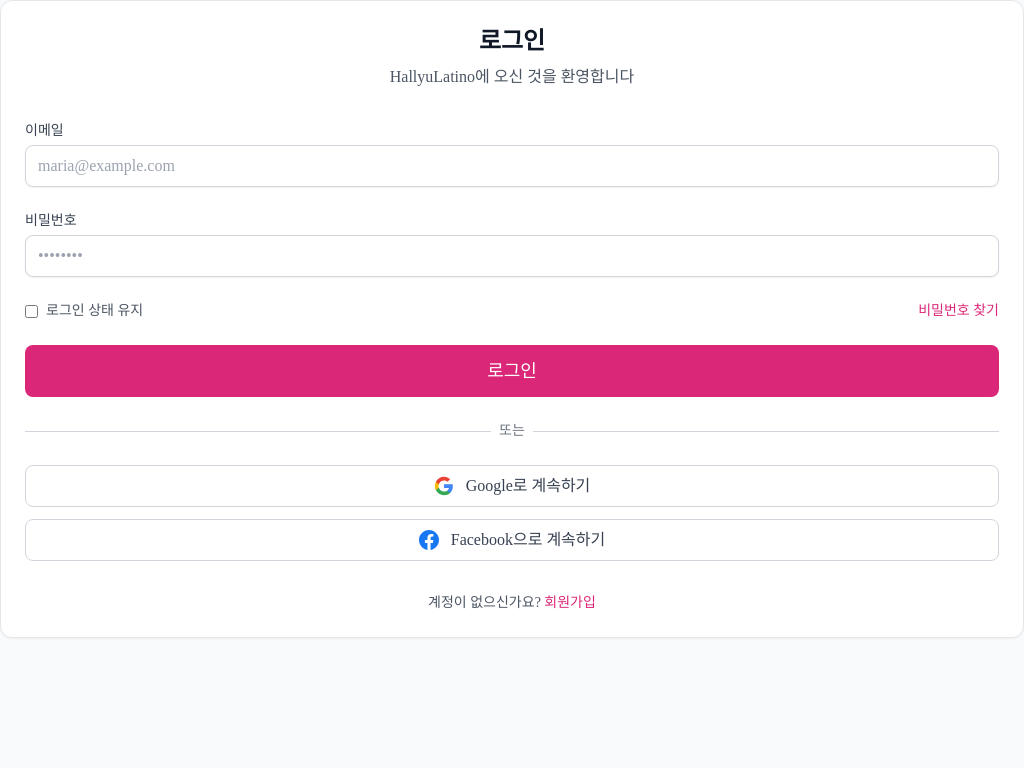
Scenario: LoginForm › Validation › should_show_error_when_email_is_empty_on_submit
Click the button "로그인".
click(512, 371)  # box [25,345,999,397]
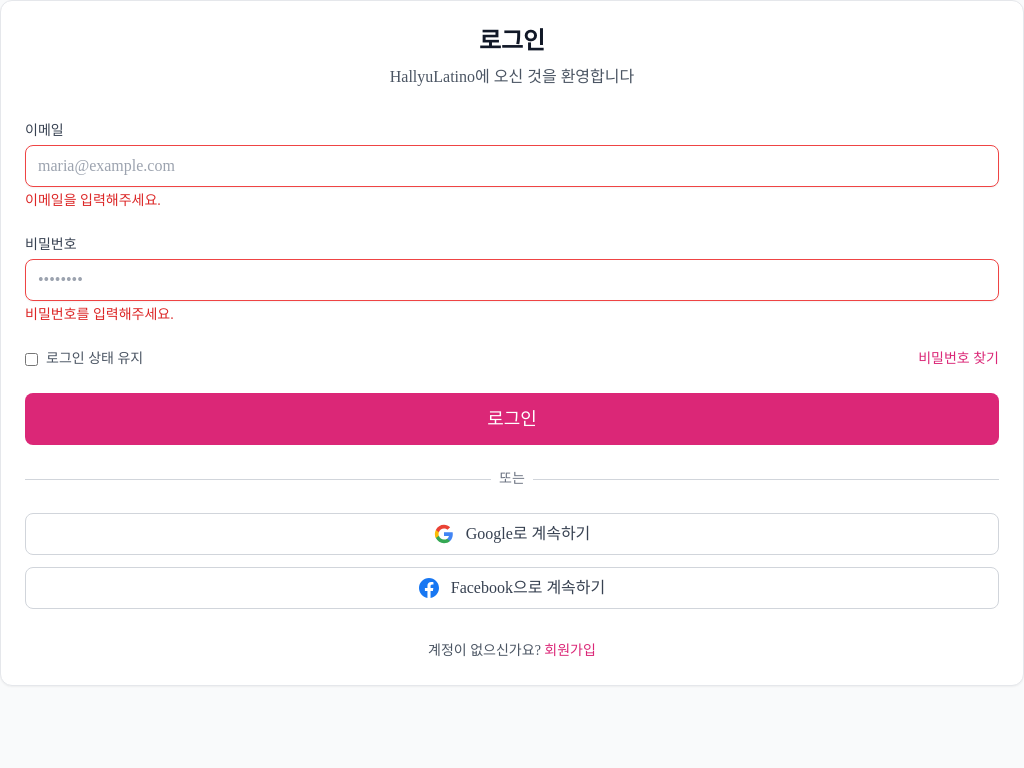
Result: the text "이메일을 입력해주세요." is shown at [25,193,161,208]
